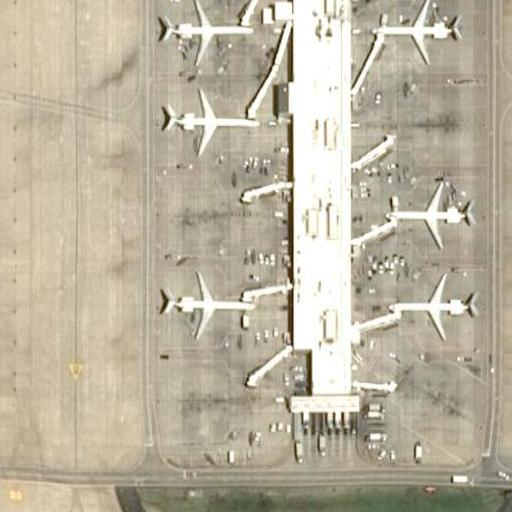Aircraft: (158, 270, 259, 338), (156, 88, 261, 153), (386, 269, 479, 342), (382, 174, 473, 246), (158, 0, 254, 66), (369, 0, 461, 62)
